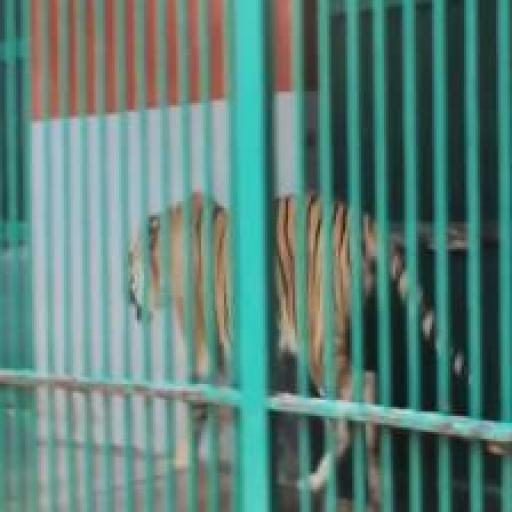Tiger: (93, 166, 512, 505)
